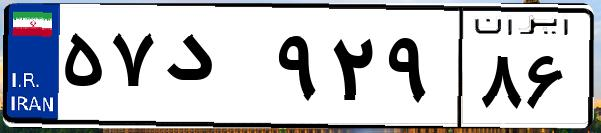2: (330, 28, 385, 110)
5: (57, 26, 110, 100)
6: (525, 38, 570, 115)
7: (110, 28, 158, 98)
8: (475, 38, 525, 113)
9: (270, 28, 330, 110), (385, 28, 445, 110)
د: (158, 20, 270, 120)
